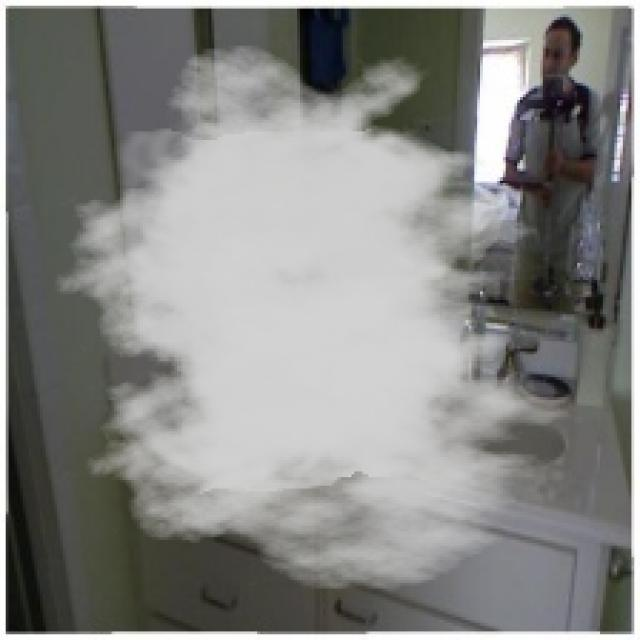smoke: (46, 43, 594, 591)
